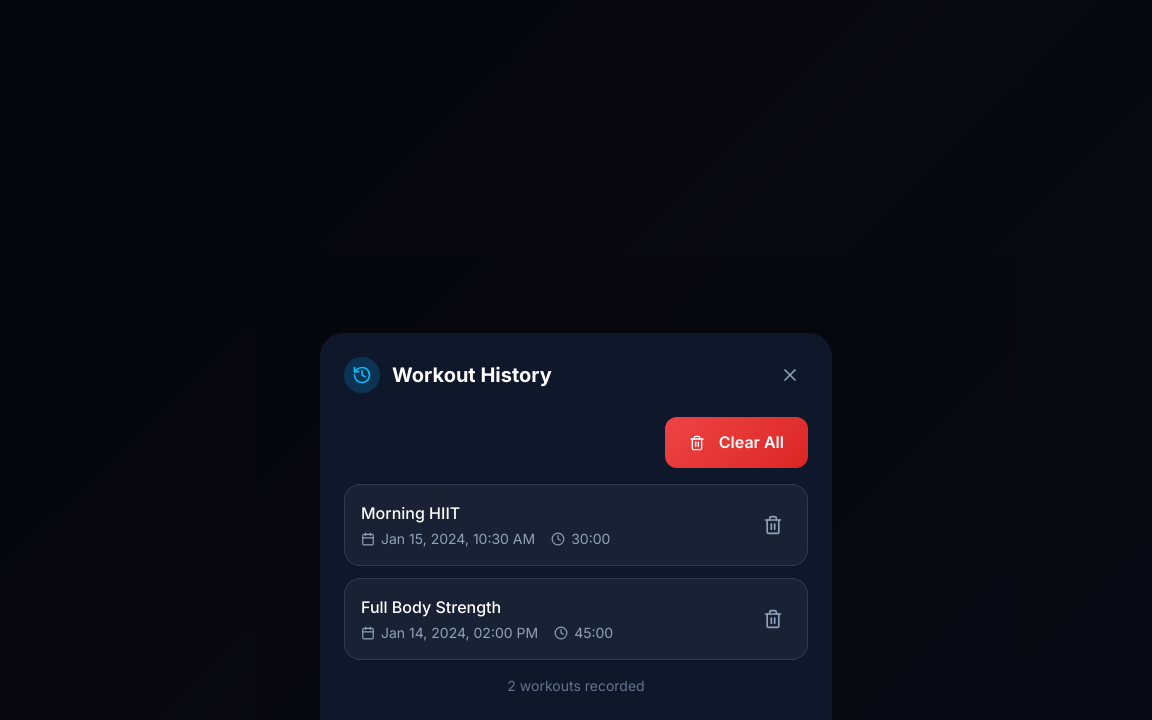
Scenario: HistoryView › shows clear all confirmation dialog when Clear All is clicked
The width and height of the screenshot is (1152, 720).
Step 1. Click the button "Clear All" → (736, 443), box x1=665 y1=417 x2=808 y2=468
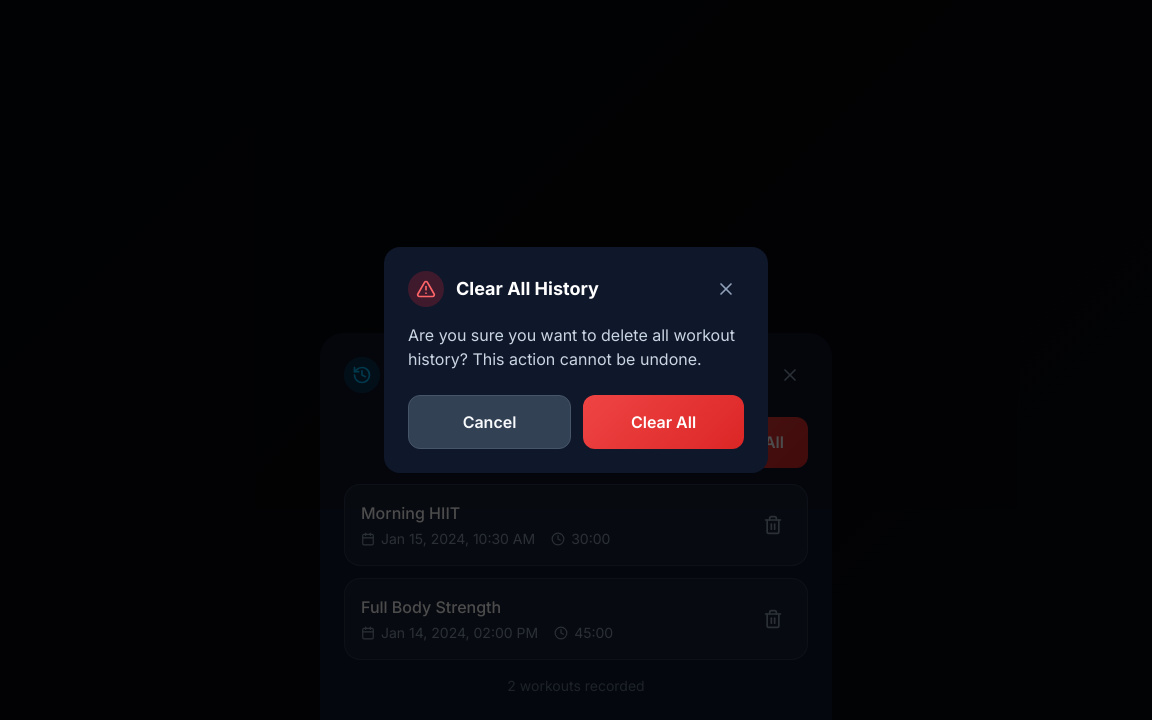
Check: the heading "Clear All History" is shown, box x1=456 y1=275 x2=599 y2=303
Check: the text "Are you sure you want to delete all workout history" is shown, box x1=408 y1=325 x2=735 y2=369
